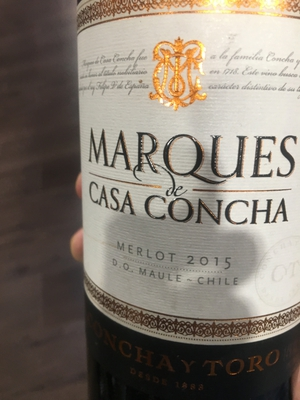marques de casa concha merlot: (73, 1, 300, 399)
